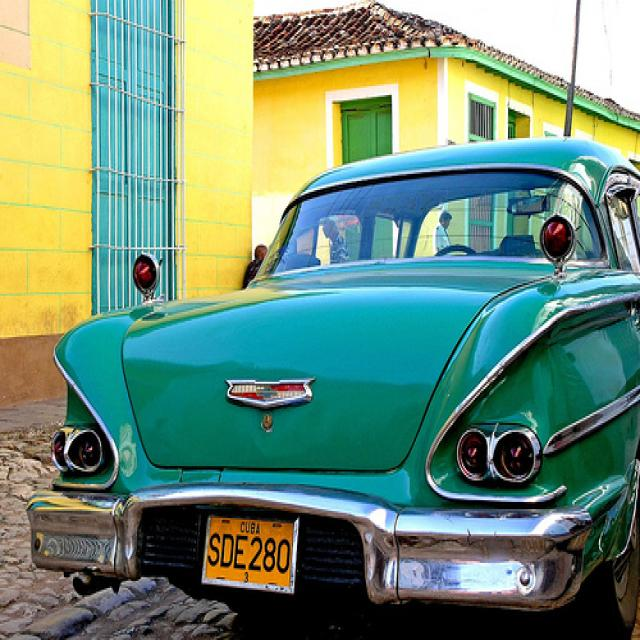Car: (19, 130, 640, 640)
